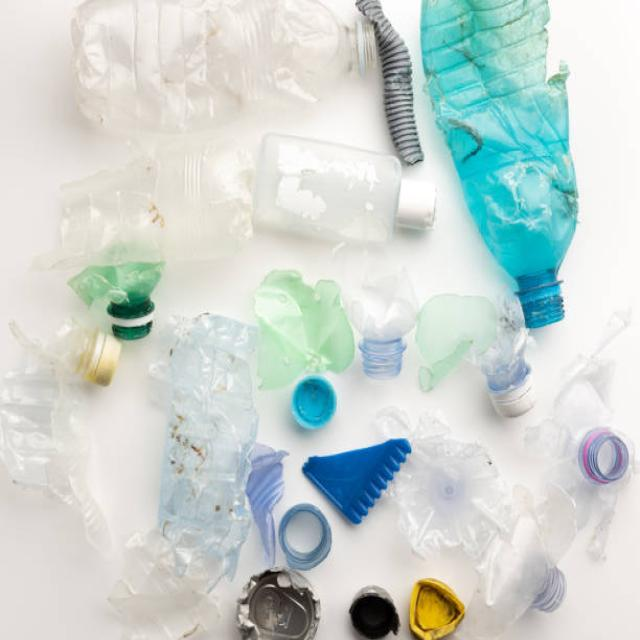plastic: (87, 2, 567, 346), (48, 378, 568, 628)
